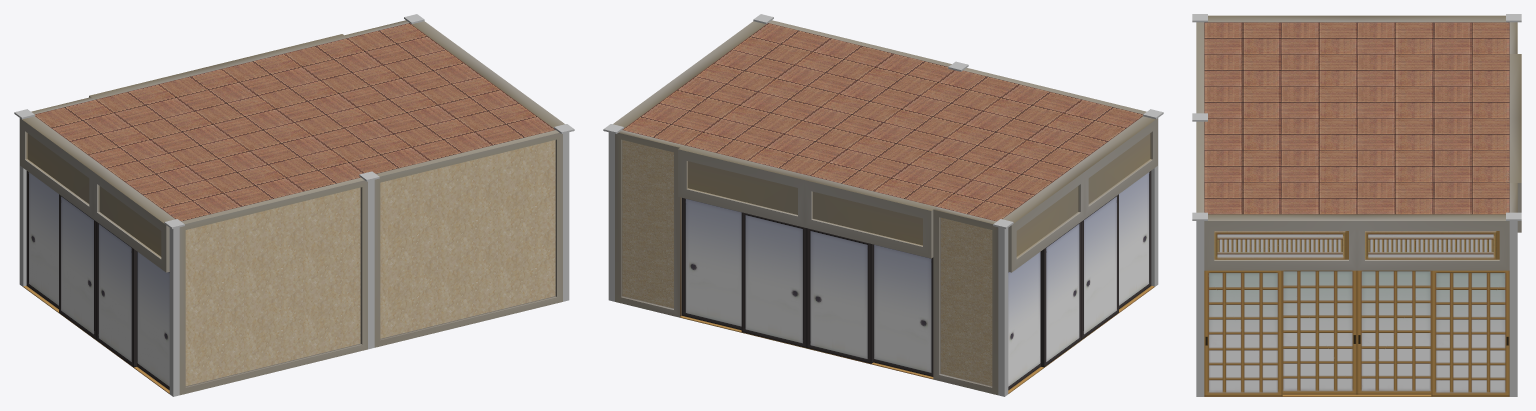
Rendered from Sample_livingroom_12jyo.fbx.
3 views of the same model, side by side, from view 1: azimuth 30°, elevation 25°; view 2: azimuth 150°, elevation 25°; view 3: azimuth 270°, elevation 25° (orthographic). The views are drawn at different scales.
Visible parts, largest first — view 1: tenjyo, tutikabe017, tutikabe016, husuma02, door1, door3, door2, door4, husuma01, hashira03, husuma06, hashira020 (+2 smaller); view 2: tenjyo, husuma01, door3 (×2), door1 (×2), door2 (×2), door4 (×2), husuma02, hashira02, husuma06, hashira01, hashira03, tutikabe017 (+1 smaller); view 3: tenjyo, husuma06, door2, door4, door1, door3, husuma01, husuma02, hashira01, hashira04, tutikabe016, tutikabe017.
Boxes of the visible parts, x1=… form: tenjyo: x1=35, y1=23, x2=555, y2=221; tutikabe017: x1=374, y1=130, x2=562, y2=347; tutikabe016: x1=179, y1=177, x2=367, y2=395; husuma02: x1=20, y1=116, x2=174, y2=393; door1: x1=96, y1=222, x2=136, y2=367; door3: x1=59, y1=194, x2=96, y2=339; door2: x1=137, y1=251, x2=169, y2=389; door4: x1=26, y1=171, x2=58, y2=308; husuma01: x1=31, y1=20, x2=409, y2=114; hashira03: x1=164, y1=219, x2=184, y2=396; husuma06: x1=412, y1=21, x2=564, y2=128; hashira020: x1=359, y1=171, x2=379, y2=349; tenjyo: x1=622, y1=23, x2=1142, y2=221; husuma01: x1=615, y1=130, x2=998, y2=395; door3 (×2): x1=741, y1=212, x2=1081, y2=367; door1 (×2): x1=806, y1=194, x2=1118, y2=363; door2 (×2): x1=873, y1=171, x2=1151, y2=376; door4 (×2): x1=682, y1=198, x2=1040, y2=389; husuma02: x1=1003, y1=116, x2=1157, y2=393; hashira02: x1=993, y1=219, x2=1013, y2=396; husuma06: x1=613, y1=21, x2=765, y2=128; hashira01: x1=603, y1=124, x2=623, y2=301; hashira03: x1=1143, y1=109, x2=1163, y2=286; tutikabe017: x1=768, y1=20, x2=951, y2=66; tenjyo: x1=1204, y1=22, x2=1509, y2=214; husuma06: x1=1204, y1=214, x2=1509, y2=396; door2: x1=1204, y1=270, x2=1282, y2=396; door4: x1=1431, y1=270, x2=1509, y2=396; door1: x1=1282, y1=270, x2=1356, y2=394; door3: x1=1357, y1=270, x2=1431, y2=394; husuma01: x1=1506, y1=22, x2=1521, y2=232; husuma02: x1=1208, y1=15, x2=1505, y2=22; hashira01: x1=1506, y1=212, x2=1521, y2=396; hashira04: x1=1192, y1=212, x2=1207, y2=396; tutikabe016: x1=1196, y1=22, x2=1204, y2=113; tutikabe017: x1=1196, y1=121, x2=1204, y2=212.
Bounding box in the file's own units: 1240 × 505 × 840.
